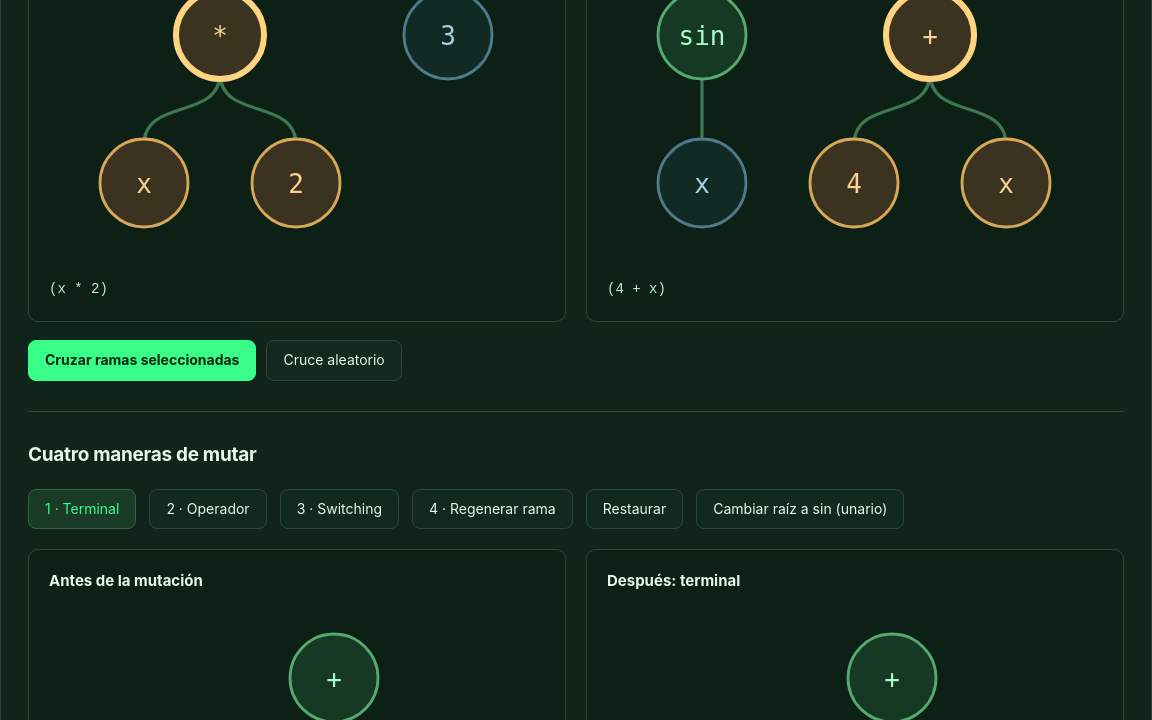
Test: explica el corte, intercambio y resultado durante el cruce animado
(page scrolled)
Click the button "Cruzar ramas seleccionadas" at (142, 361), box [28,340,256,381]
Wait 1400 ms
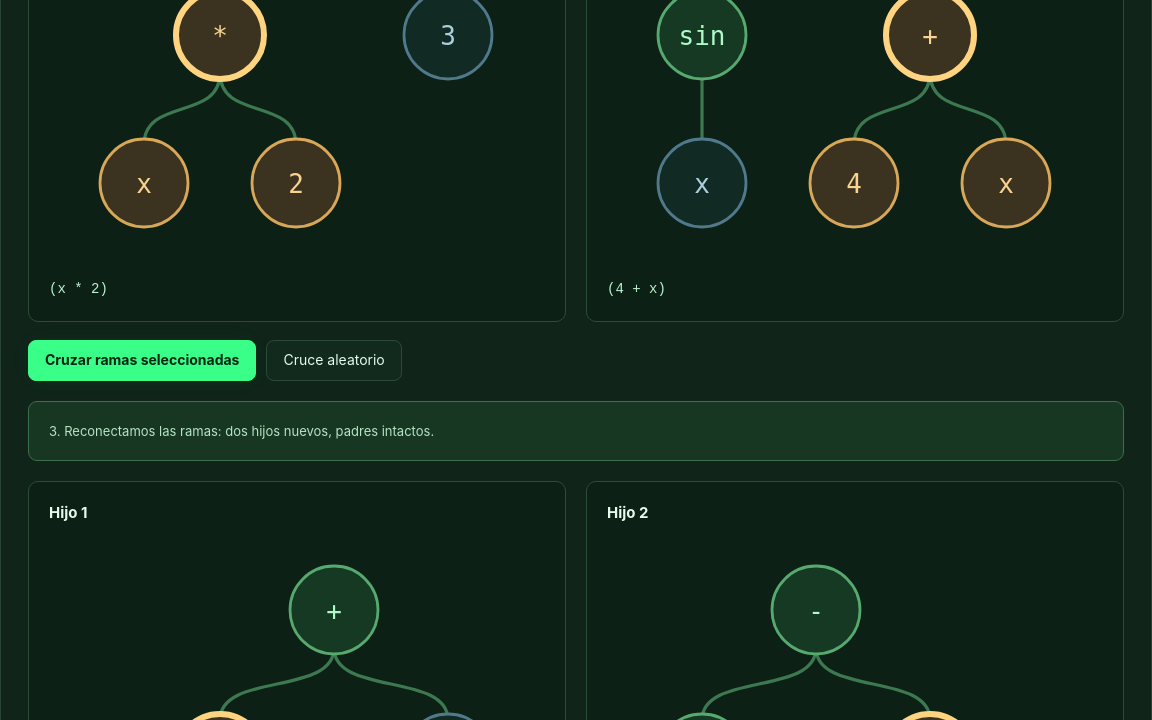
Expected: the text "2. Intercambiamos" is shown, [28,401,1124,461]
Expected: the heading "Hijo 1" is shown, [49,503,88,522]
